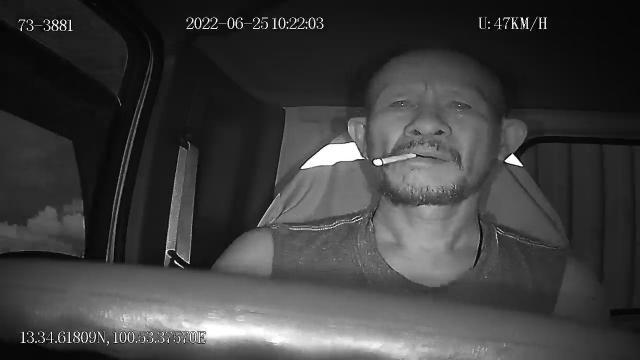SafeDriving: (382, 90, 422, 120), (441, 90, 478, 119)
Smoking: (372, 152, 416, 167)
